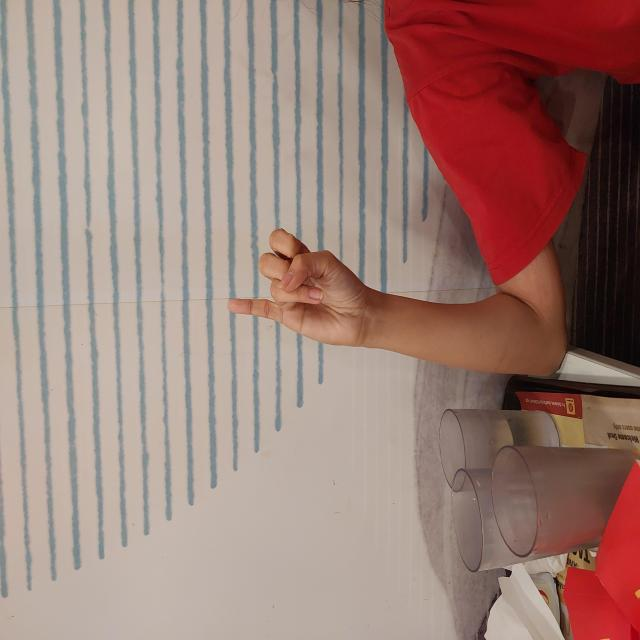I: (293, 226, 413, 368)
